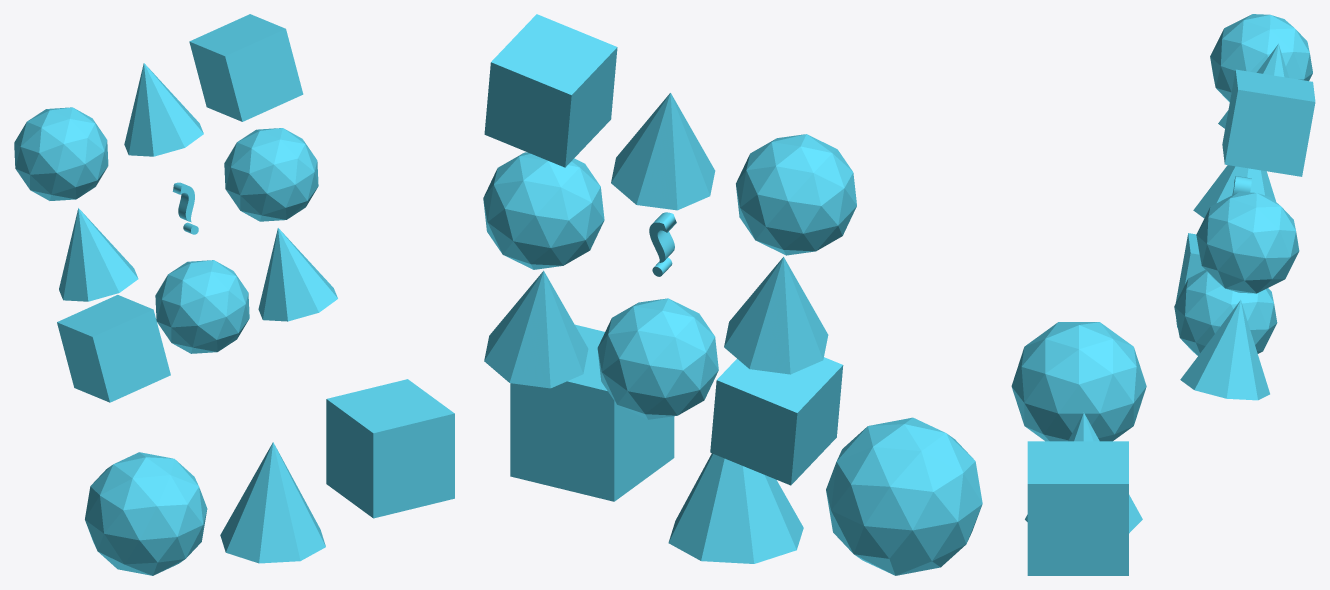
The model's file is console_test_013.fbx.
3 renders of one model, left to right at view 1: azimuth 30°, elevation 25°; view 2: azimuth 150°, elevation 25°; view 3: azimuth 270°, elevation 25°, orthographic. The views are drawn at different scales.
Visible parts, largest first — view 1: Success.002, Failure.010, Failure.009, Failure.006, Failure.004, Untitled.001, Untitled, Untitled.002, Failure.007, Failure.011, Failure.008, Txt_Test_01.043; view 2: Failure.010, Success.002, Failure.009, Failure.006, Untitled.002, Untitled, Untitled.001, Failure.004, Failure.008, Failure.007, Failure.011, Txt_Test_01.043; view 3: Success.002, Failure.010, Failure.009, Untitled.001, Untitled, Untitled.002, Failure.011, Failure.008, Failure.006, Failure.004, Failure.007.
Part boxes in pixels (<box>): Success.002: <box>326,379,454,518</box>; Failure.010: <box>85,452,207,575</box>; Failure.009: <box>189,14,303,121</box>; Failure.006: <box>57,295,170,402</box>; Failure.004: <box>220,442,325,563</box>; Untitled.001: <box>224,128,318,221</box>; Untitled: <box>14,107,108,200</box>; Untitled.002: <box>155,260,249,353</box>; Failure.007: <box>124,63,203,156</box>; Failure.011: <box>258,228,337,321</box>; Failure.008: <box>59,208,138,301</box>; Txt_Test_01.043: <box>172,182,198,234</box>; Failure.010: <box>826,417,982,575</box>; Success.002: <box>510,324,674,501</box>; Failure.009: <box>484,14,617,167</box>; Failure.006: <box>710,357,843,485</box>; Untitled.002: <box>597,298,718,419</box>; Untitled: <box>736,134,856,255</box>; Untitled.001: <box>483,152,604,269</box>; Failure.004: <box>668,453,803,563</box>; Failure.008: <box>724,257,828,374</box>; Failure.007: <box>611,93,715,210</box>; Failure.011: <box>484,270,588,388</box>; Txt_Test_01.043: <box>649,212,676,276</box>; Success.002: <box>1027,441,1128,575</box>; Failure.010: <box>1011,322,1146,441</box>; Failure.009: <box>1222,69,1315,176</box>; Untitled.001: <box>1196,192,1299,293</box>; Untitled: <box>1210,14,1312,102</box>; Untitled.002: <box>1174,270,1277,355</box>; Failure.011: <box>1180,300,1269,400</box>; Failure.008: <box>1193,165,1275,218</box>; Failure.006: <box>1175,233,1205,327</box>; Failure.004: <box>1025,412,1142,533</box>; Failure.007: <box>1218,44,1289,128</box>.
Size of the model in its own units: 1.55 by 1.93 by 1.12.
